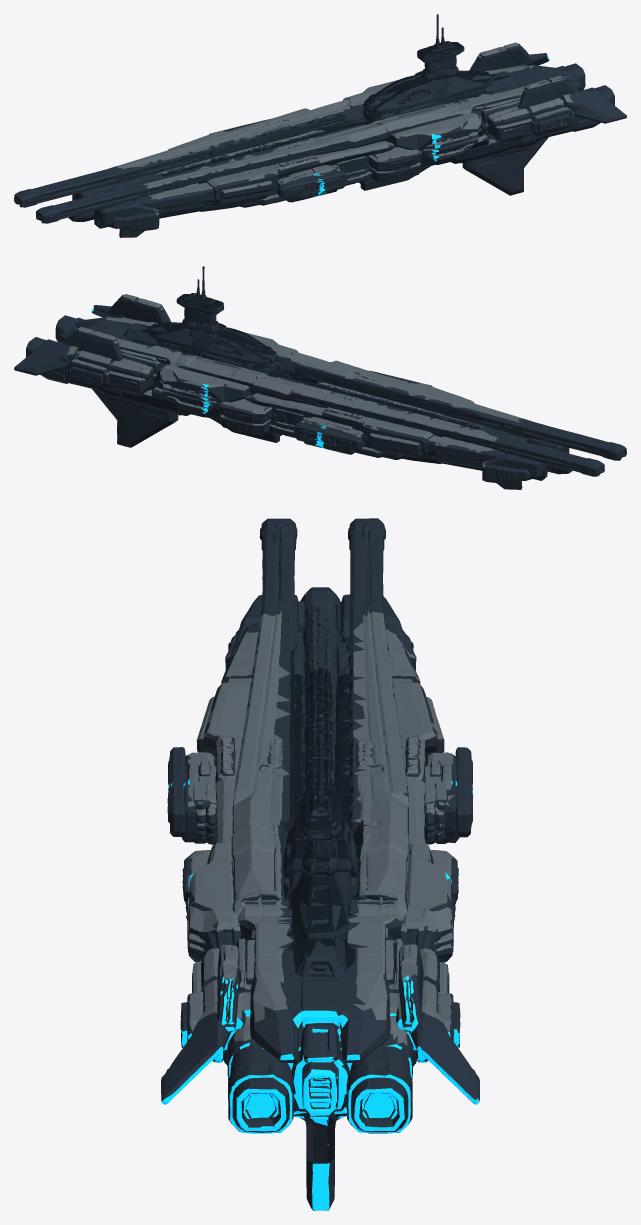
Rendered from artillery_ship.glb.
3 renders of one model, top to bottom at view 1: azimuth 30°, elevation 25°; view 2: azimuth 150°, elevation 25°; view 3: azimuth 270°, elevation 25°, orthographic. The views are drawn at different scales.
Parts seen in each view (by area): view 1: mesh_node; view 2: mesh_node; view 3: mesh_node.
Boxes of the visible parts, left/top/right/bottom form: mesh_node: left=14, top=14, right=626, bottom=237; mesh_node: left=14, top=266, right=626, bottom=489; mesh_node: left=161, top=518, right=479, bottom=1210.
Size of the model in its own units: 1.9 by 0.6348 by 0.465.
